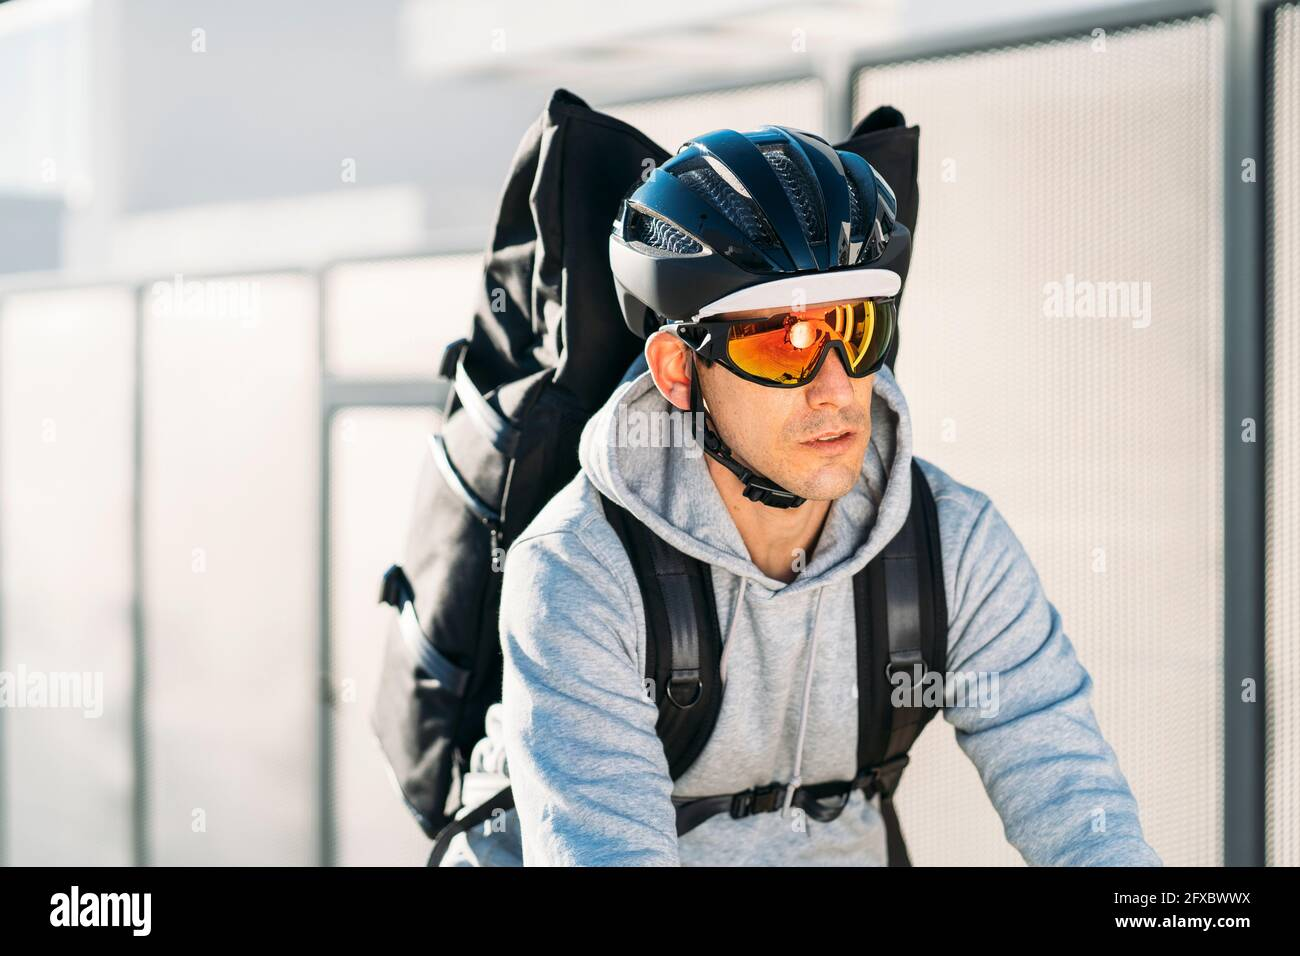helmet: (607, 123, 913, 499)
